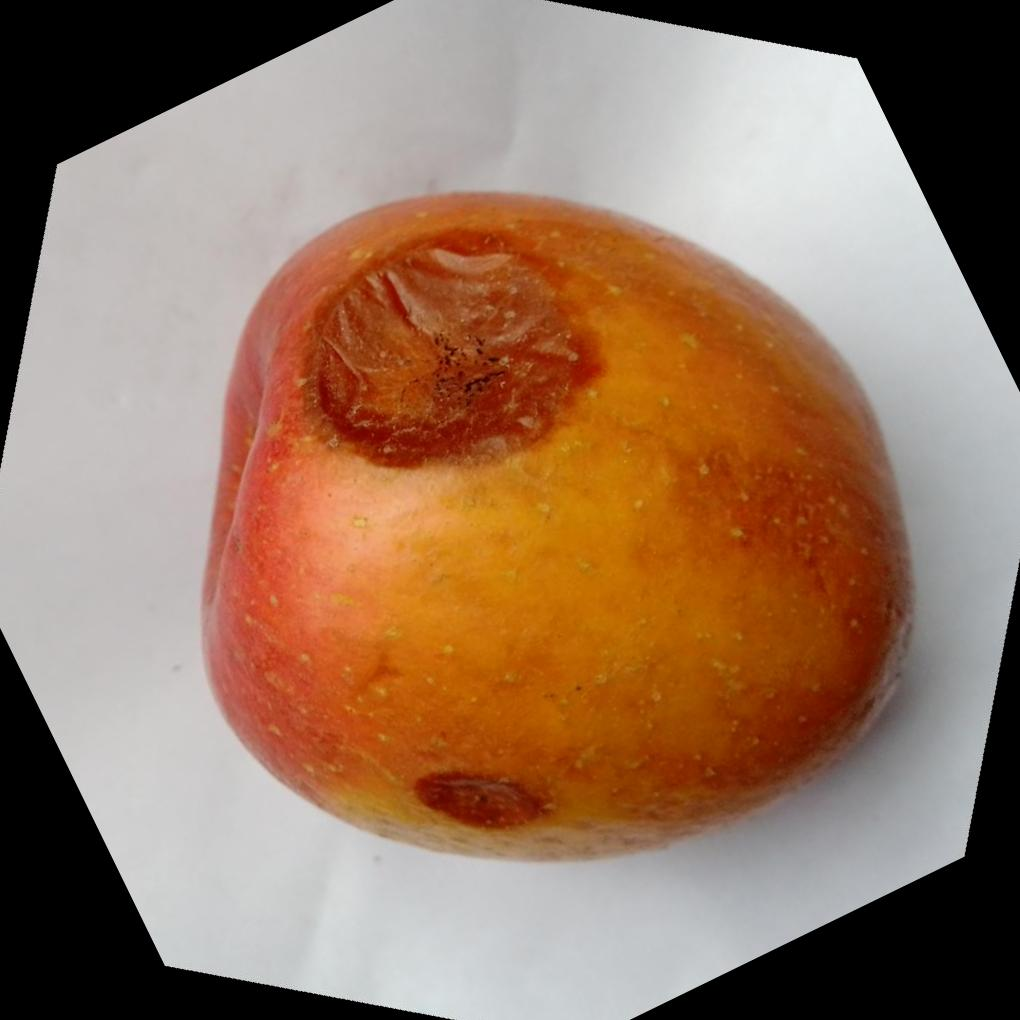FreshOrange: (198, 191, 918, 870)
